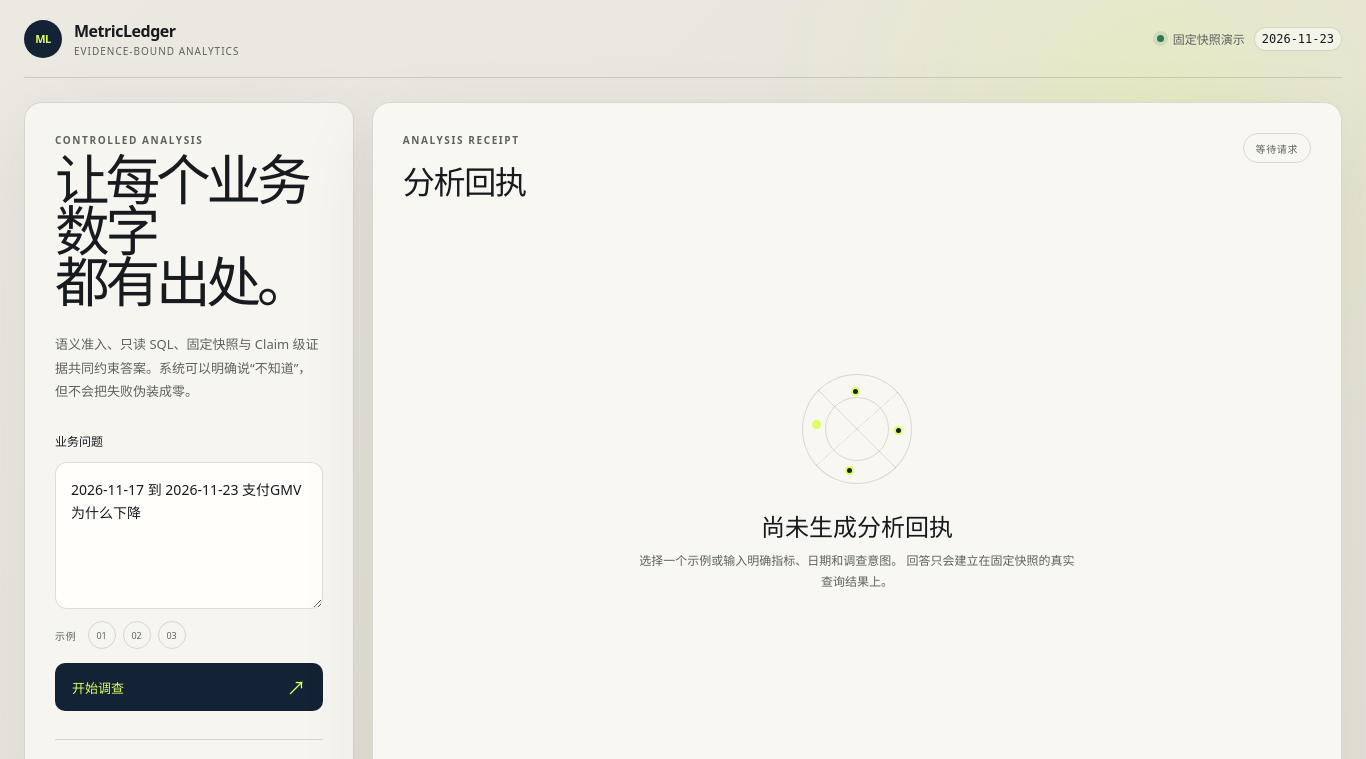
MetricLedger workbench › renders model and user text literally instead of as HTML
Click the button "开始调查 ↗" at (98, 688), box x1=55 y1=663 x2=323 y2=711
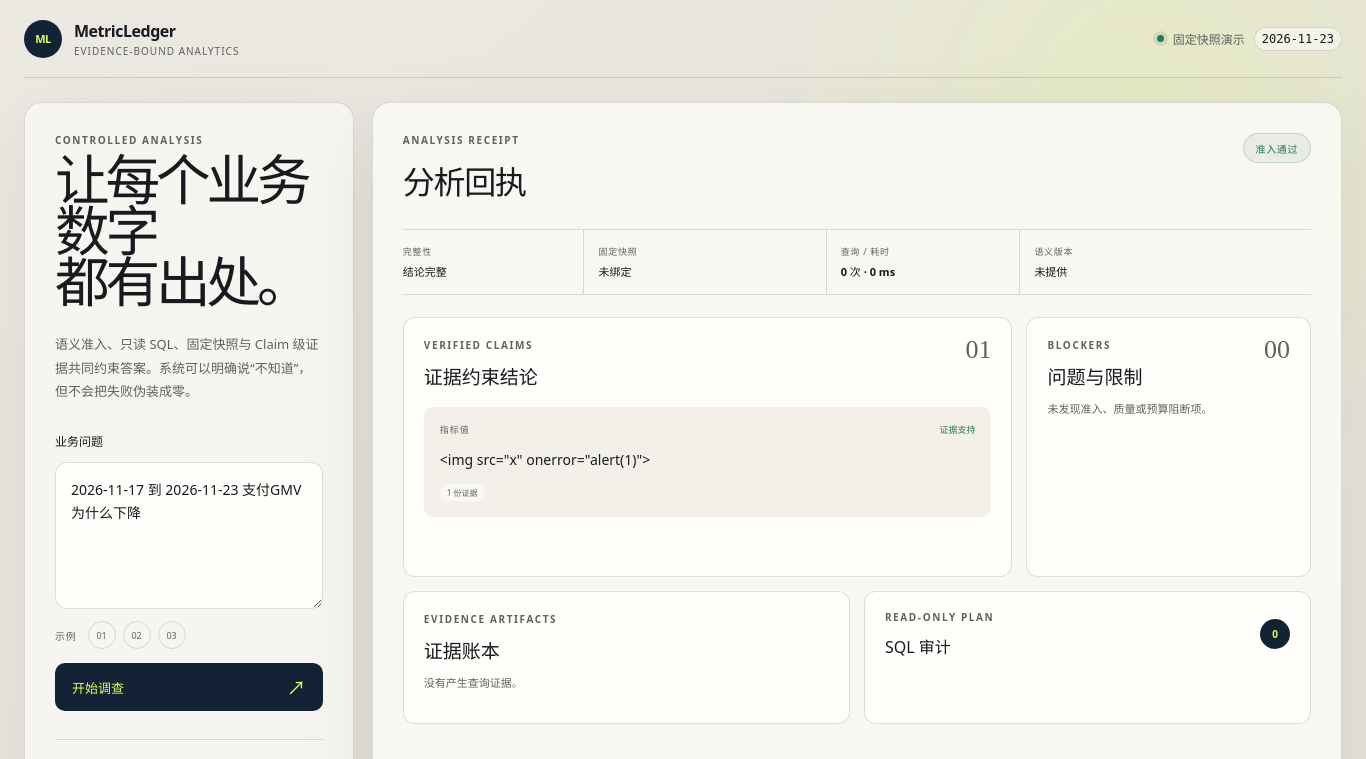
Result: the text "<img src=\"x\" onerror=\"alert(1)\">" is shown at x1=440 y1=450 x2=650 y2=469
